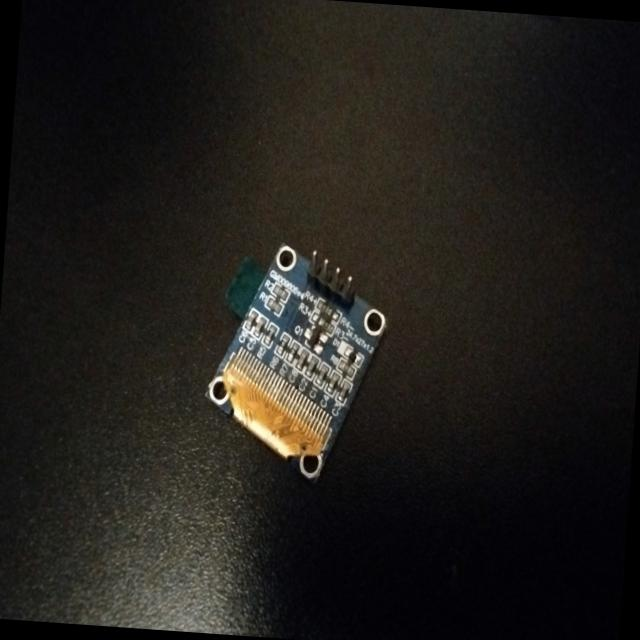oled: (195, 204, 398, 484)
